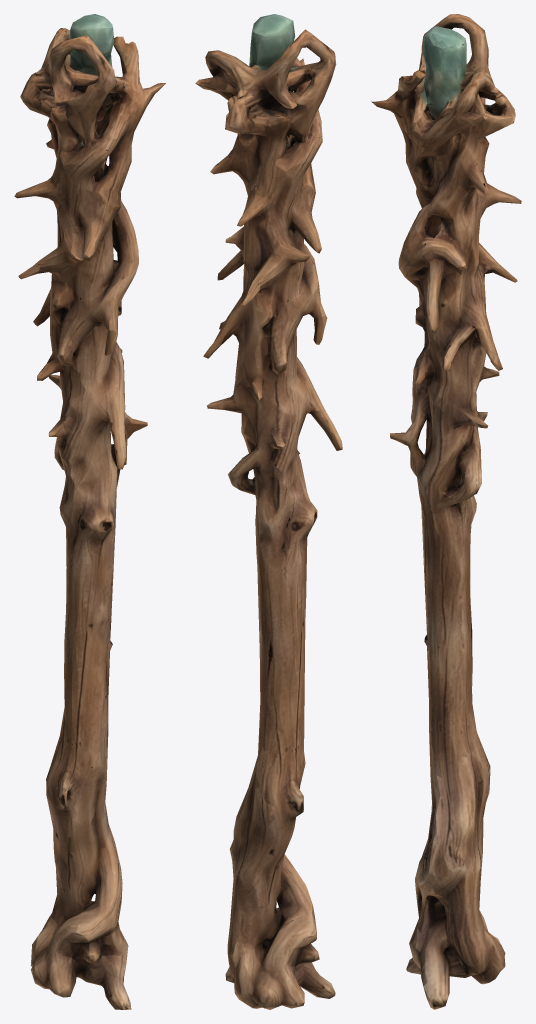
Rendered from SM_Staff_Thornbound_Root_Staff.FBX.
The picture shows the model from 3 angles, left to right: view 1: azimuth 90°, elevation 25°; view 2: azimuth 150°, elevation 25°; view 3: azimuth 270°, elevation 25°; orthographic projection. The views are drawn at different scales.
Visible parts, largest first — view 1: SM_Staff_Thornbound_Root_Staff; view 2: SM_Staff_Thornbound_Root_Staff; view 3: SM_Staff_Thornbound_Root_Staff.
Part boxes in pixels (x1,y1,x2,y2): SM_Staff_Thornbound_Root_Staff: (14,14,165,1009); SM_Staff_Thornbound_Root_Staff: (195,14,342,1009); SM_Staff_Thornbound_Root_Staff: (371,14,521,1009).
Size of what is drawn, in the model's own units: 19.75 by 22.75 by 160.
